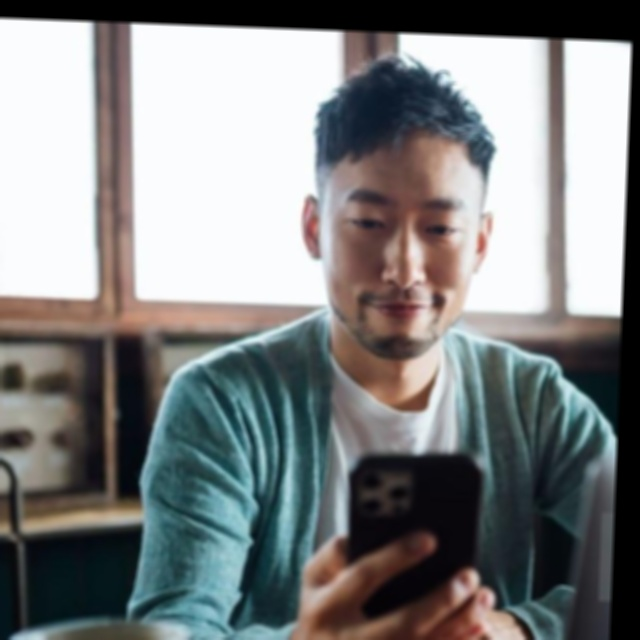Sin_Casco_Mascarrilla: (298, 55, 504, 364)
